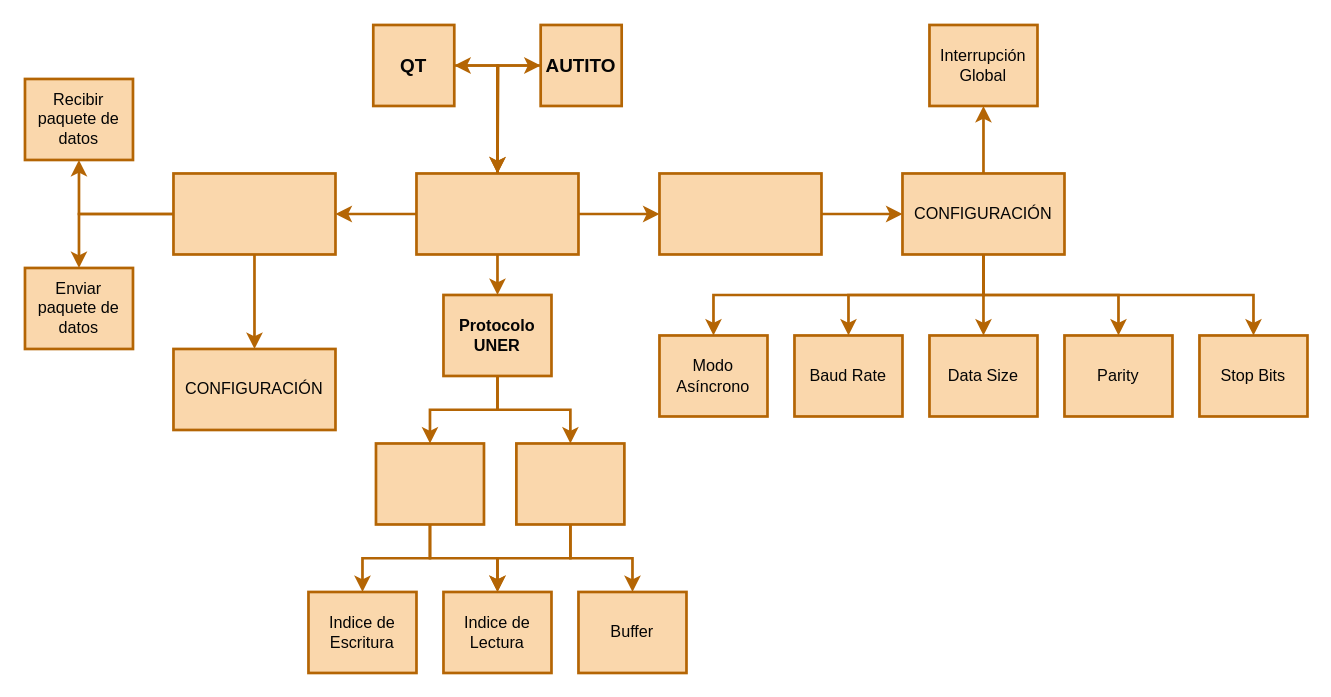
The diagram is 1331 pixels wide and 697 high, and some of its shapes have lost their labels. Each missing label, with the box of its shape:
COMUNICACION: (414, 171, 579, 255)
RX (Read): (514, 441, 625, 525)
TX (Transmit): (374, 441, 485, 525)
UART: (657, 171, 822, 255)
USB: (171, 171, 336, 255)
